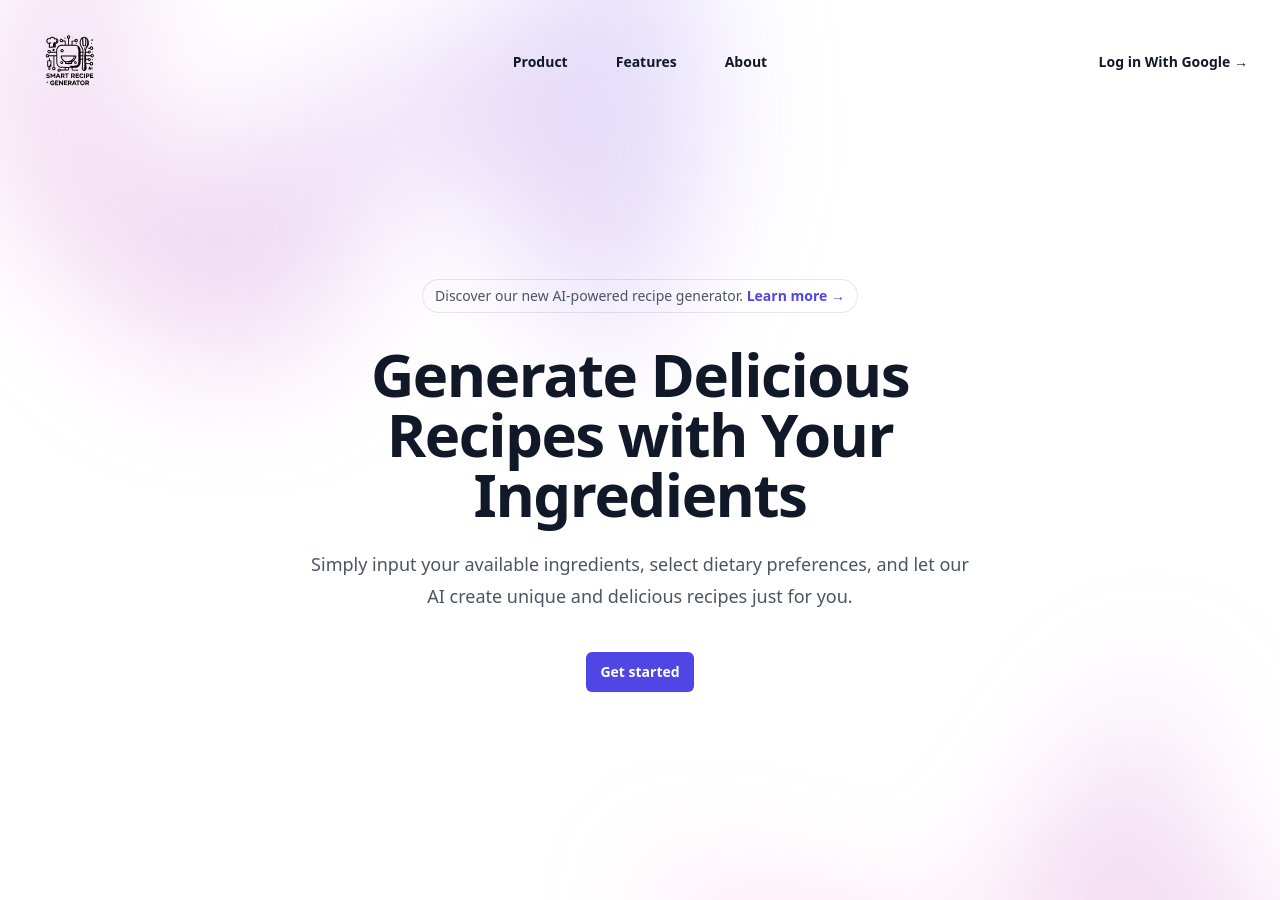
Scenario: The Hero Component › shall reset the product page
The width and height of the screenshot is (1280, 900).
Click the button "Product". click: click(540, 62)
box: [513, 50, 568, 74]
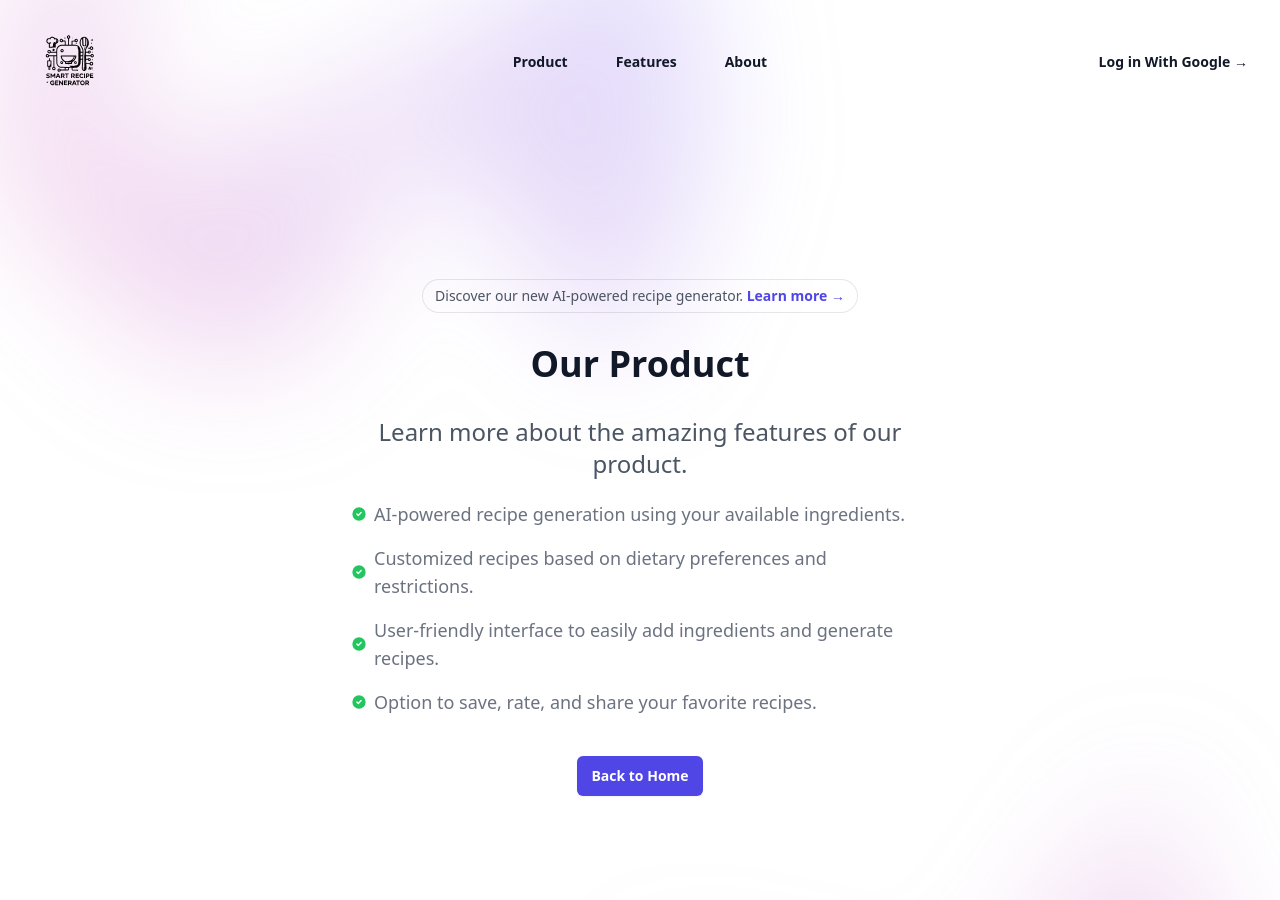
Result: the heading "Our Product" is shown at [530, 344, 750, 384]
Click the button "Back to Home". click: click(640, 776)
box: [577, 756, 703, 796]
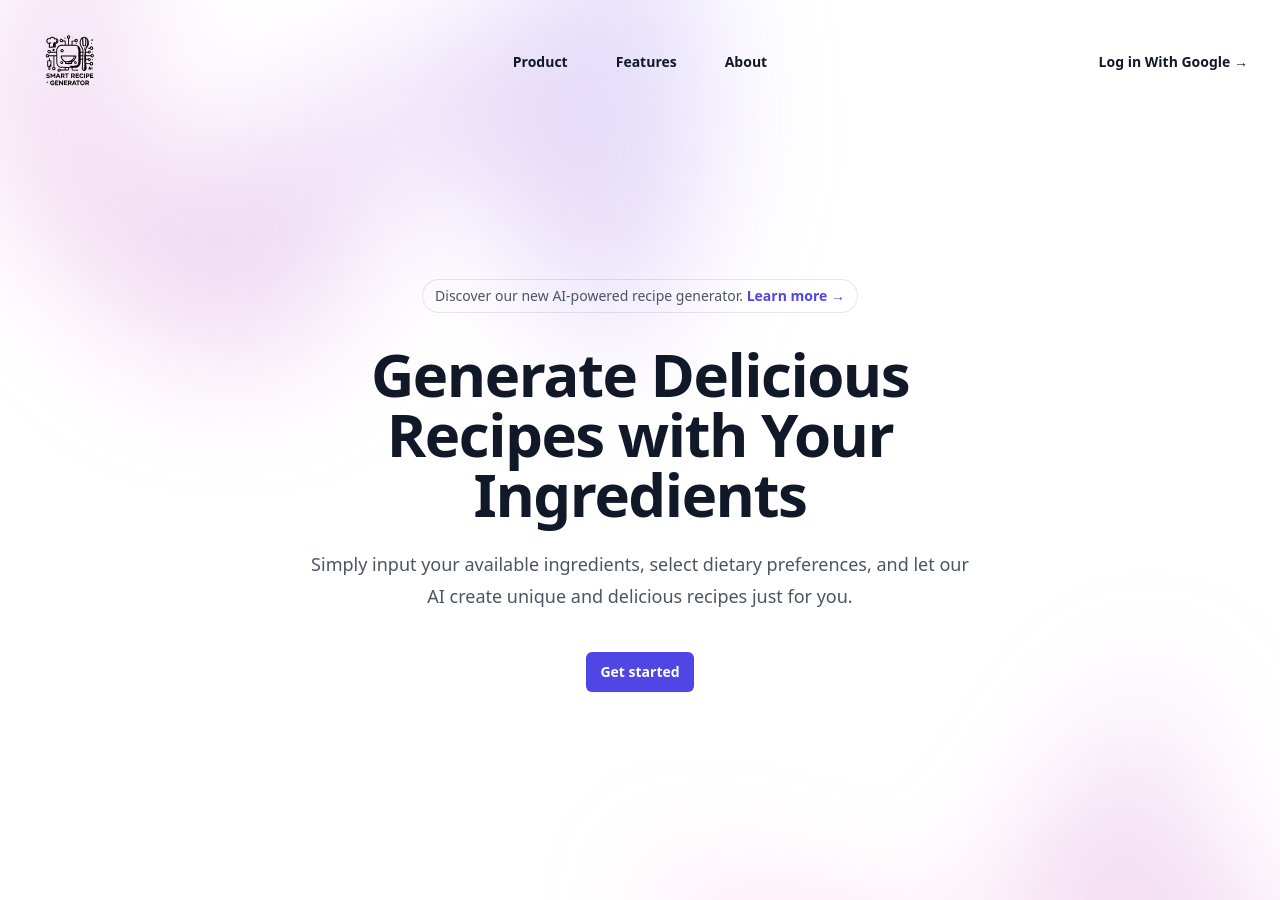
Result: the heading "Our Product" is gone
